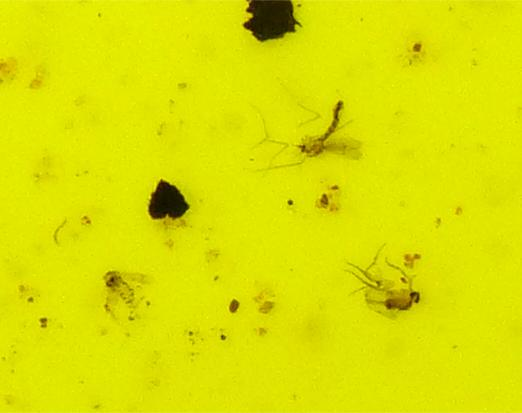Brachycera: (378, 287, 422, 313)
Nematocera: (294, 100, 355, 166), (100, 269, 137, 313)
